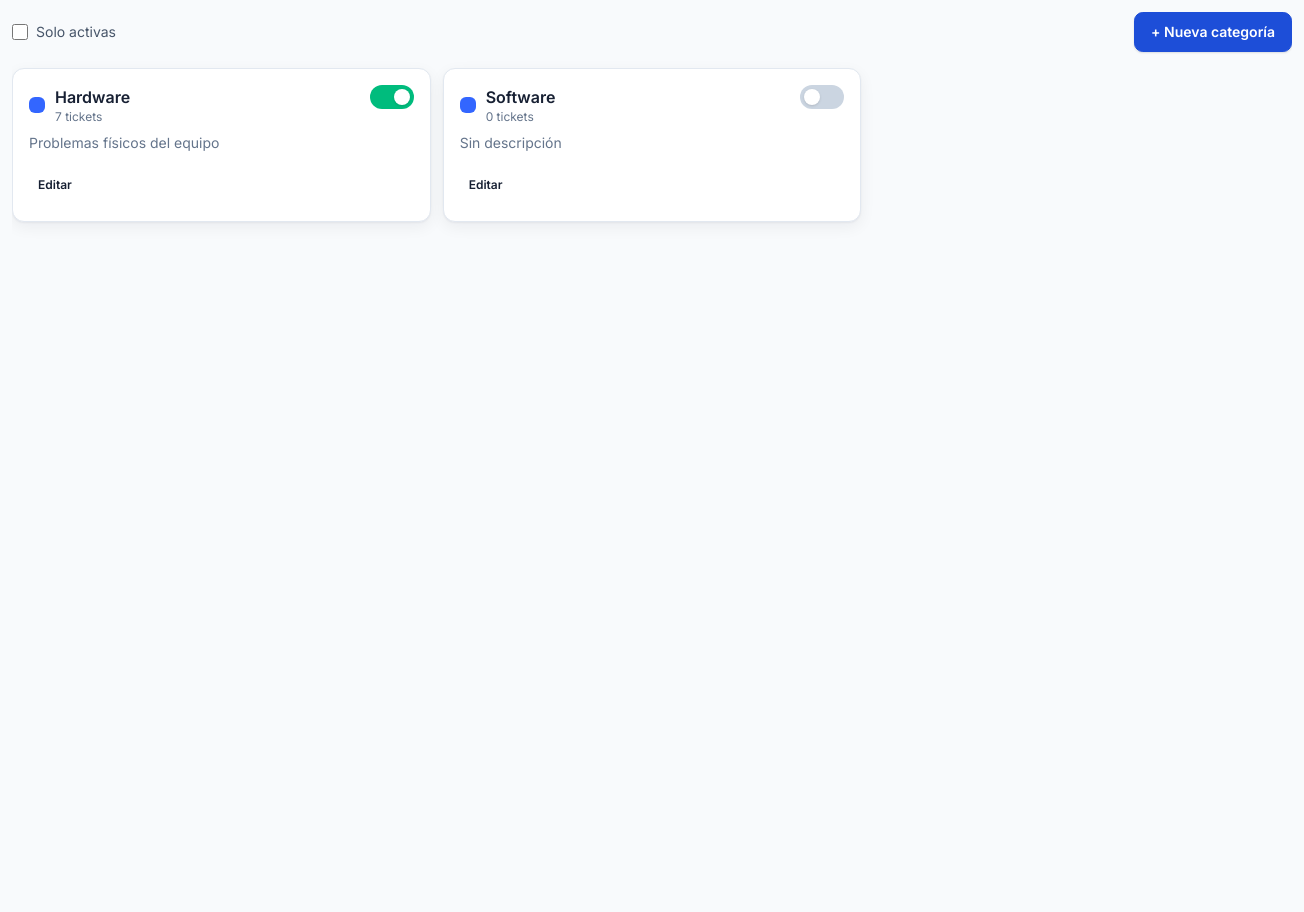
Scenario: Categories · avisos de éxito › avisa cuando se activa una categoría
Expected: the text "Software" is shown, [486, 85, 556, 109]
Click the switch named "Software": (822, 97) [800, 85, 844, 109]
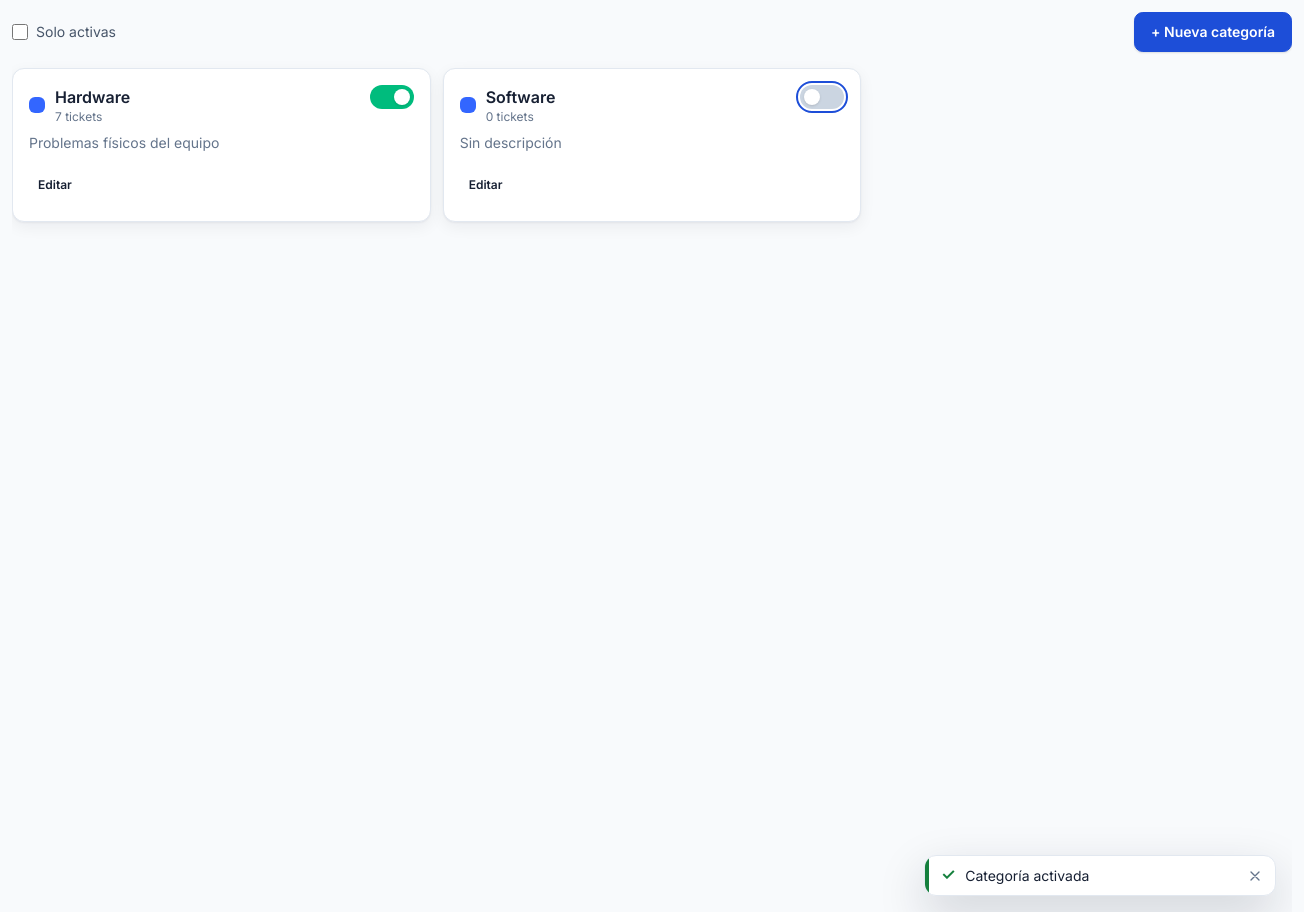
Expected: the text "Categoría activada" is shown, [964, 866, 1089, 884]
